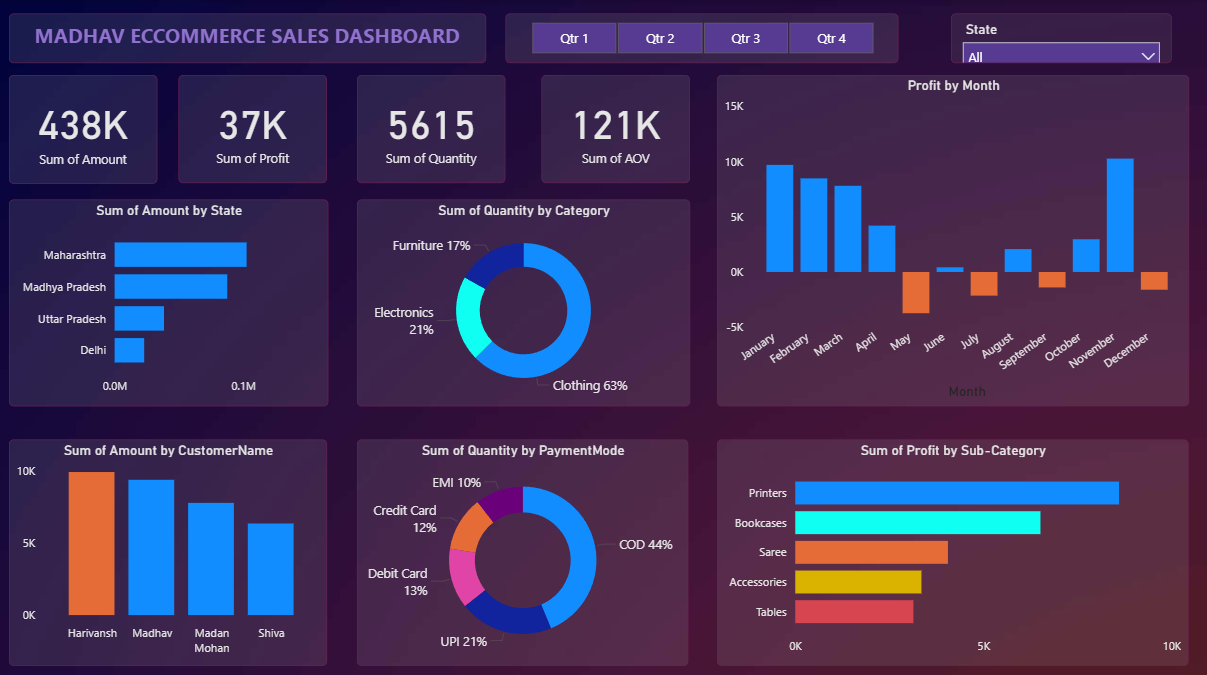

This screenshot's page, from the dashboard's own definition file:
{"tool":"powerbi","page":{"name":"Page 1","canvas":[1280,720],"ordinal":0},"visuals":[{"type":"textbox","box":[9.5,14.3,505.8,52.5],"z":0},{"type":"columnChart","title":"Profit by Month","fields":{"Category":["Orders.Order Date.Variation.Date Hierarchy.Month"],"Y":["Sum(Details.Profit)"]},"box":[759.7,79.4,500.8,351.5],"z":1000},{"type":"barChart","fields":{"Category":["Details.Sub-Category"],"Y":["Sum(Details.Profit)"]},"box":[760.3,466,500,240.2],"z":2000},{"type":"donutChart","fields":{"Category":["Details.Category"],"Y":["Sum(Details.Quantity)"]},"box":[378.6,211.6,353.1,219.5],"z":3000},{"type":"donutChart","fields":{"Y":["Sum(Details.Quantity)"],"Category":["Details.PaymentMode"]},"box":[378.6,466,351.5,240.2],"z":4000},{"type":"card","fields":{"Values":["Sum(Details.Amount)"]},"box":[9.4,79.4,157,115.3],"z":5000},{"type":"card","fields":{"Values":["Sum(Details.Profit)"]},"box":[189.3,79.5,157.5,114.5],"z":6000},{"type":"card","fields":{"Values":["Sum(Details.Quantity)"]},"box":[378.6,79.5,157,114.5],"z":7000},{"type":"card","fields":{"Values":["Sum(Details.AOV)"]},"box":[574.2,79.5,157.5,114.5],"z":8000},{"type":"barChart","fields":{"Category":["Orders.State"],"Y":["Sum(Details.Amount)"]},"box":[9.5,211.6,338.8,219.5],"z":9000},{"type":"columnChart","fields":{"Y":["Sum(Details.Amount)"],"Category":["Orders.CustomerName"]},"box":[9.5,466,337.2,240.2],"z":10000},{"type":"slicer","fields":{"Values":["Orders.Order Date.Variation.Date Hierarchy.Quarter"]},"box":[536,14.3,416.7,52.5],"z":11000},{"type":"slicer","fields":{"Values":["Orders.State"]},"box":[1008.4,14.3,233.8,52.5],"z":12000}]}

Visuals, with their boxes in screenshot pixels (x1, y1, x2, y2), scaled from the page's 1280x720 canvas onto the 1207x675 screenshot:
textbox: (9, 13, 486, 63)
"Profit by Month" columnChart: (716, 74, 1189, 404)
barChart - Details.Sub-Category x Sum(Details.Profit): (717, 437, 1188, 662)
donutChart - Details.Category x Sum(Details.Quantity): (357, 198, 690, 404)
donutChart - Sum(Details.Quantity) x Details.PaymentMode: (357, 437, 688, 662)
card - Sum(Details.Amount): (9, 74, 157, 183)
card - Sum(Details.Profit): (179, 75, 327, 182)
card - Sum(Details.Quantity): (357, 75, 505, 182)
card - Sum(Details.AOV): (541, 75, 690, 182)
barChart - Orders.State x Sum(Details.Amount): (9, 198, 328, 404)
columnChart - Sum(Details.Amount) x Orders.CustomerName: (9, 437, 327, 662)
slicer - Orders.Order Date.Variation.Date Hierarchy.Quarter: (505, 13, 898, 63)
slicer - Orders.State: (951, 13, 1171, 63)
